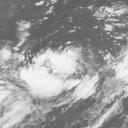cyclone: (18, 46, 83, 100)
